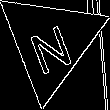N_N: (24, 11, 77, 73)
